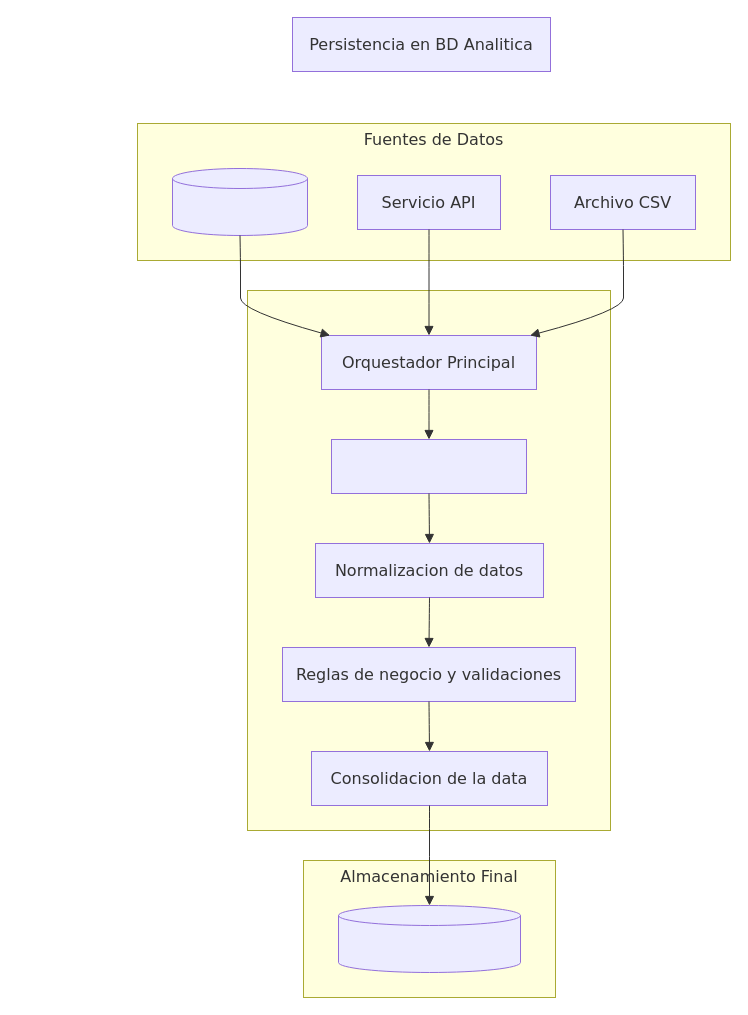
Some shapes in this 748 by 1015 pixel diagram are drawn without their labels. The box of each missing label's shape, as (x1, y1, x2, y2) in pixels:
Base de Datos Analitica: (338, 904, 520, 972)
BD Transaccional: (172, 168, 308, 236)
Lectura de fuentes: (330, 438, 526, 494)
Motor de Procesamiento ETL: (246, 290, 610, 830)
